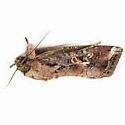army worm adult: (10, 34, 123, 86)
